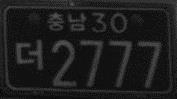0: (110, 12, 127, 33)
2: (50, 38, 78, 88)
3: (90, 10, 107, 33)
7: (107, 39, 133, 89), (137, 39, 162, 90), (78, 39, 103, 87)
더: (15, 38, 44, 70)
충남_O: (47, 10, 86, 33)
